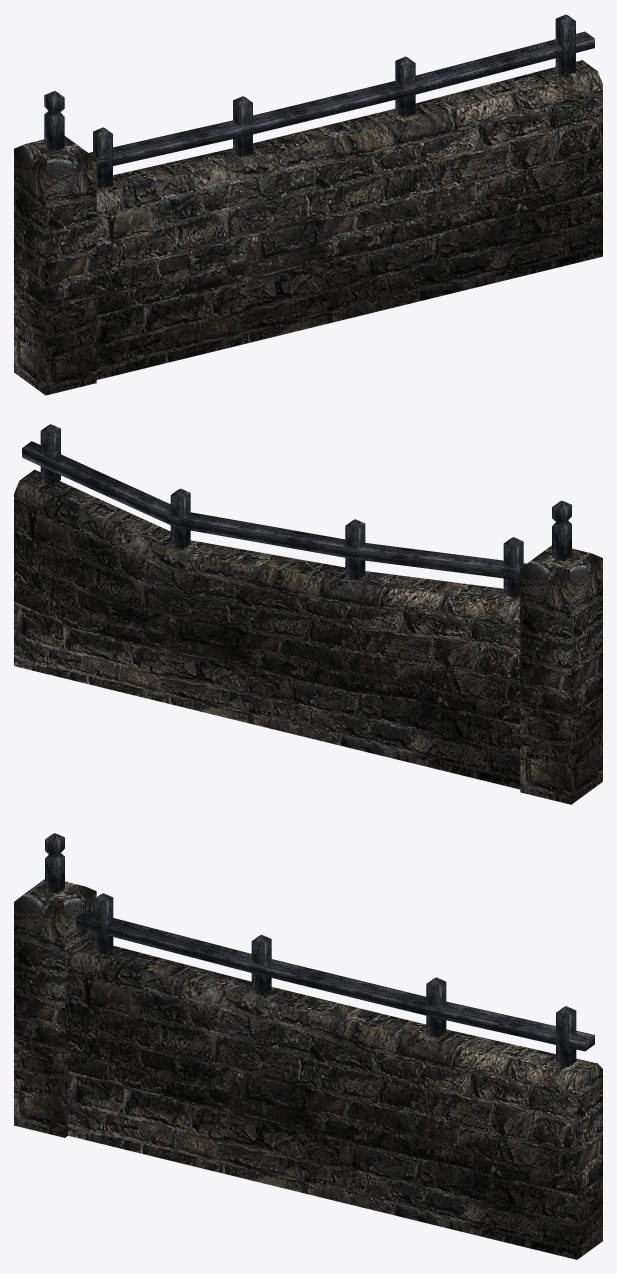
The model's file is GS_MISC_STONE_FENCE_08.glb.
3 renders of one model, top to bottom at view 1: azimuth 30°, elevation 25°; view 2: azimuth 150°, elevation 25°; view 3: azimuth 330°, elevation 25°, orthographic.
Visible parts, largest first — view 1: Mesh; view 2: Mesh; view 3: Mesh.
Part boxes in pixels (<box>): Mesh: <box>14,14,602,395</box>; Mesh: <box>14,424,602,804</box>; Mesh: <box>14,833,602,1259</box>.
Bounding box in the file's own units: 4.39 × 2.15 × 0.598.
2 materials, 2 textured.
